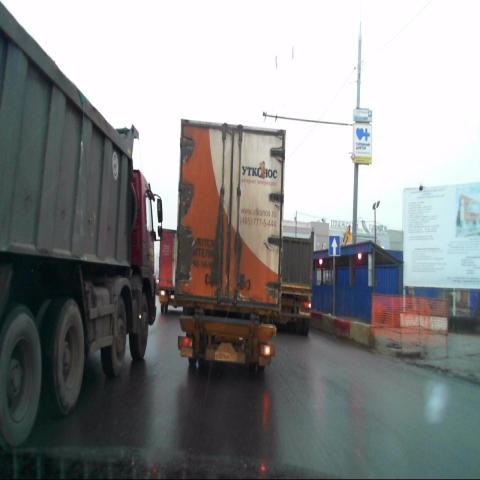5_5: (329, 236, 340, 256)
